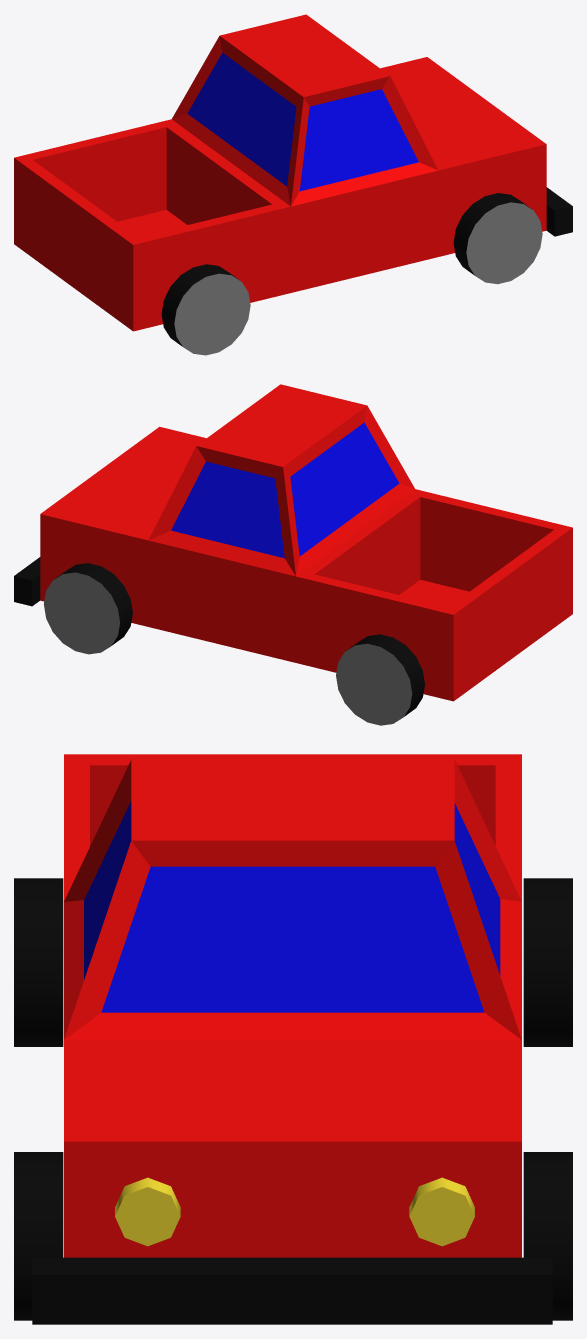
The model's file is Car Model Export.fbx.
The picture shows the model from 3 angles, top to bottom: view 1: azimuth 30°, elevation 25°; view 2: azimuth 150°, elevation 25°; view 3: azimuth 270°, elevation 25°; orthographic projection. The views are drawn at different scales.
Parts seen in each view (by area): view 1: Box002, Cylinder008, Cylinder010; view 2: Box002, Cylinder007, Cylinder009; view 3: Box002, Cylinder007, Cylinder008, Cylinder009, Cylinder010, Cylinder012, Cylinder011.
Boxes of the visible parts, left/top/right/bottom form: Box002: left=14, top=14, right=572, bottom=331; Cylinder008: left=161, top=264, right=250, bottom=355; Cylinder010: left=453, top=193, right=542, bottom=284; Box002: left=14, top=384, right=572, bottom=701; Cylinder007: left=336, top=634, right=424, bottom=725; Cylinder009: left=44, top=563, right=132, bottom=654; Box002: left=32, top=754, right=552, bottom=1324; Cylinder007: left=523, top=878, right=572, bottom=1046; Cylinder008: left=14, top=878, right=63, bottom=1046; Cylinder009: left=523, top=1152, right=572, bottom=1320; Cylinder010: left=14, top=1152, right=63, bottom=1320; Cylinder012: left=409, top=1177, right=474, bottom=1246; Cylinder011: left=115, top=1177, right=180, bottom=1246.
Size of the model in its own units: 52.21 by 23.65 by 30.51.
